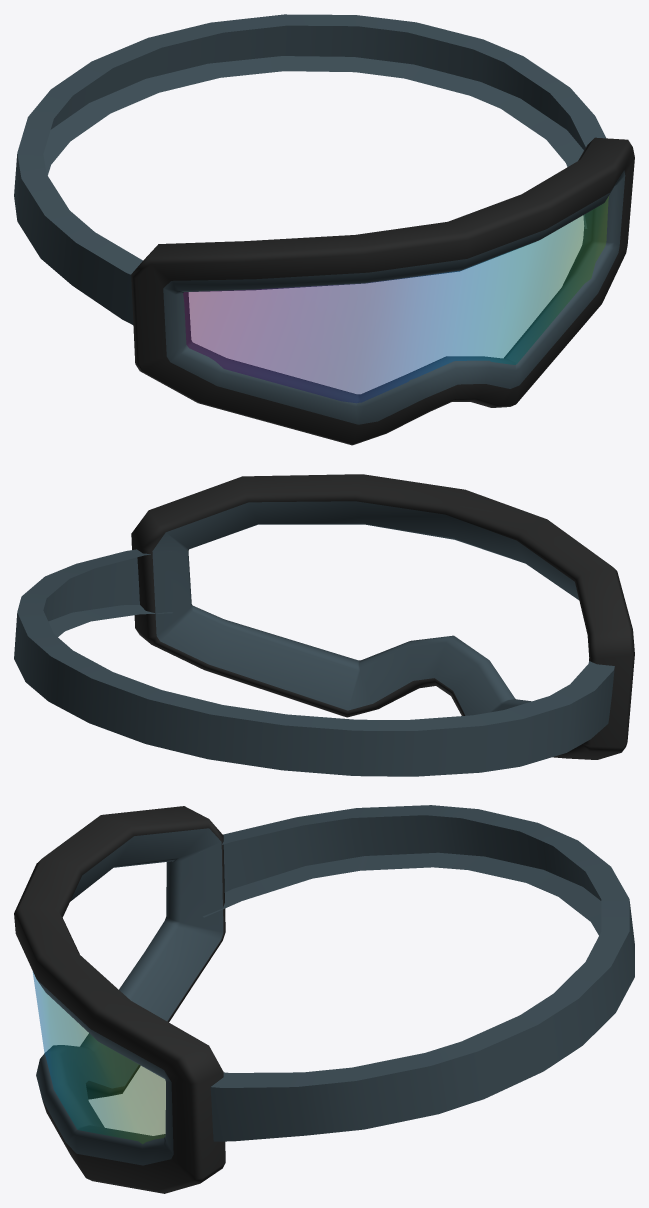
The model's file is Glasses_07.glb.
3 views of the same model, one above another, from view 1: azimuth 30°, elevation 25°; view 2: azimuth 150°, elevation 25°; view 3: azimuth 270°, elevation 25° (orthographic). The views are drawn at different scales.
Parts seen in each view (by area): view 1: Glasses_07; view 2: Glasses_07; view 3: Glasses_07.
Boxes of the visible parts, x1=… form: Glasses_07: x1=14, y1=14, x2=634, y2=445; Glasses_07: x1=14, y1=474, x2=634, y2=776; Glasses_07: x1=14, y1=805, x2=634, y2=1193.
Size of the model in its own units: 0.5879 by 0.2345 by 0.5641.
Materials: 2 (2 with a texture image).
